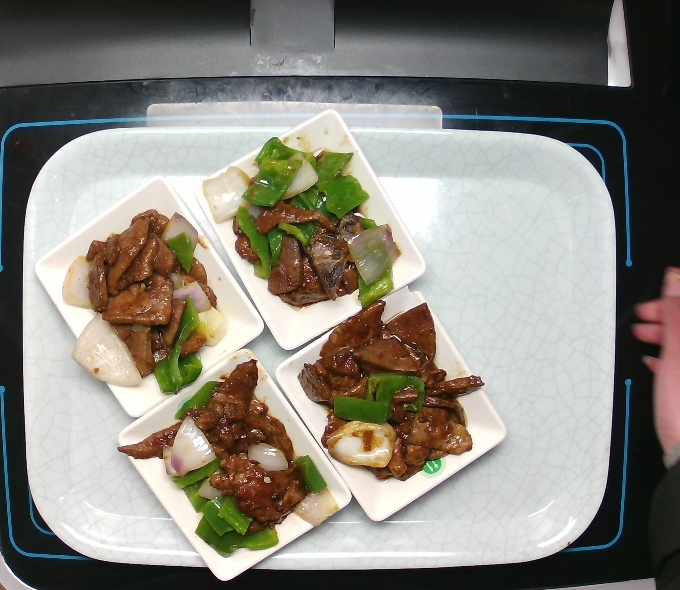wcq-ZhuGan: (111, 350, 341, 558), (291, 297, 489, 486), (52, 201, 232, 401), (222, 132, 403, 315)
